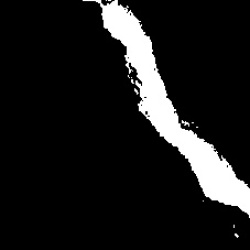crack: (98, 3, 248, 213)
